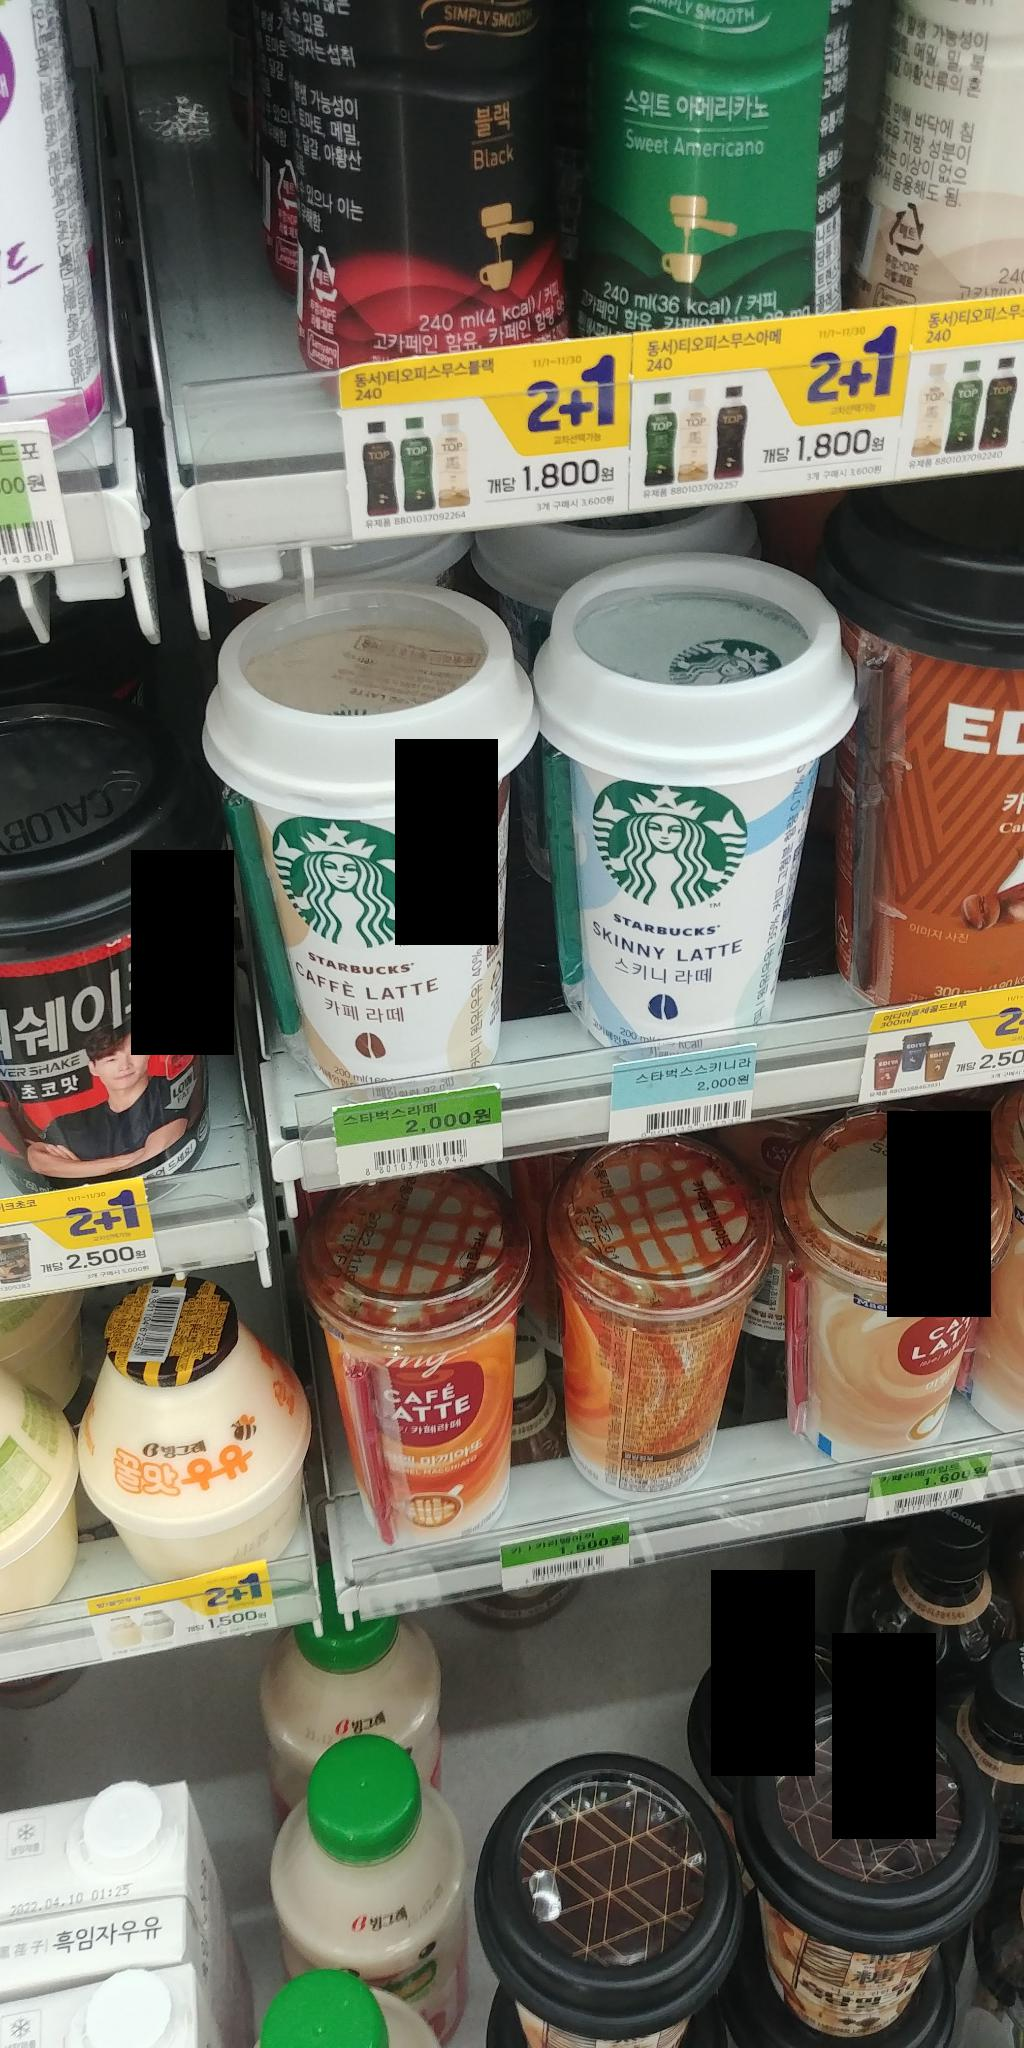starbucks_cafelatte: (183, 573, 541, 1091)
